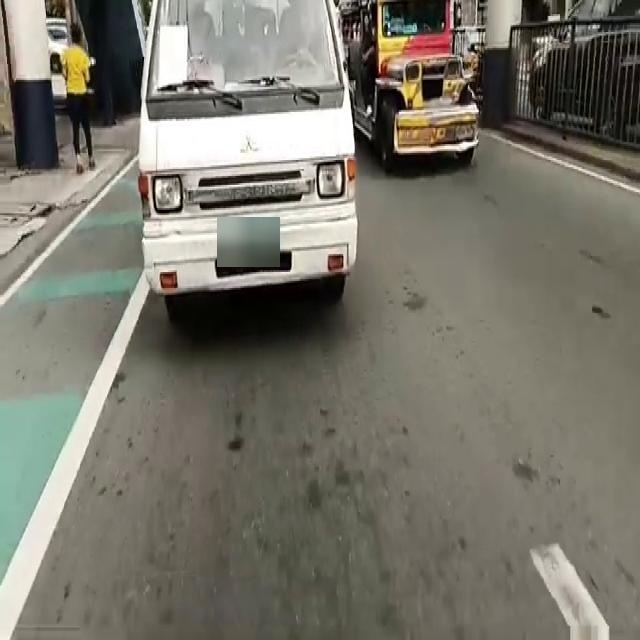car: (130, 2, 360, 330)
jeepney: (336, 6, 486, 186)
